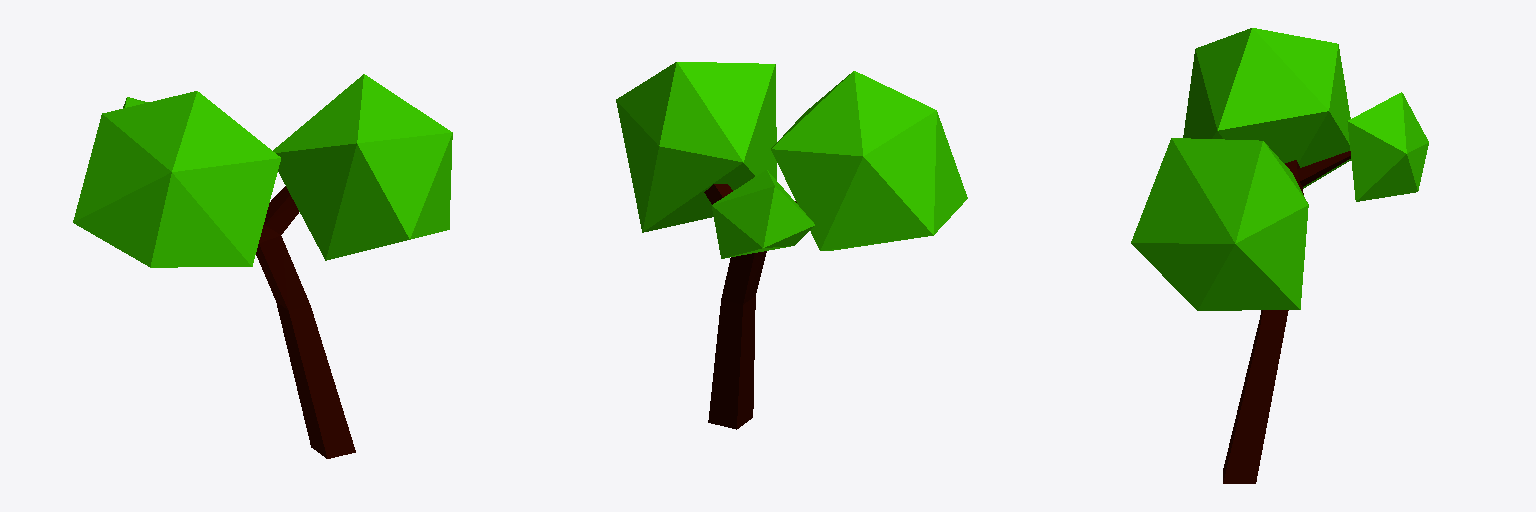
The model's file is tree.obj.
The picture shows the model from 3 angles: view 1: azimuth 30°, elevation 25°; view 2: azimuth 150°, elevation 25°; view 3: azimuth 270°, elevation 25°; orthographic projection.
Size of the model in its own units: 5.2 by 5.5 by 3.85.